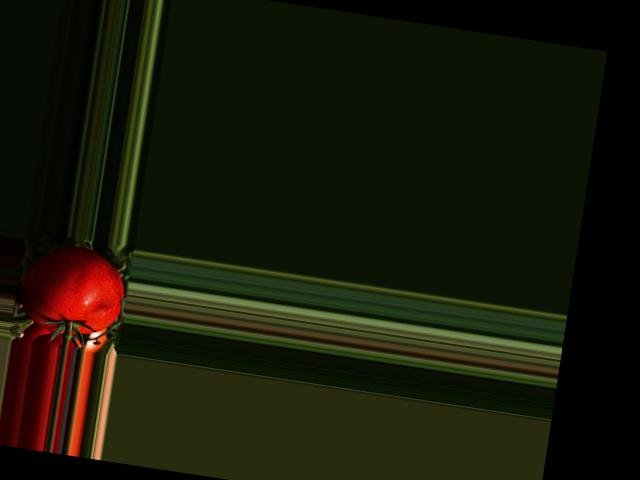tomato: (16, 240, 130, 341)
